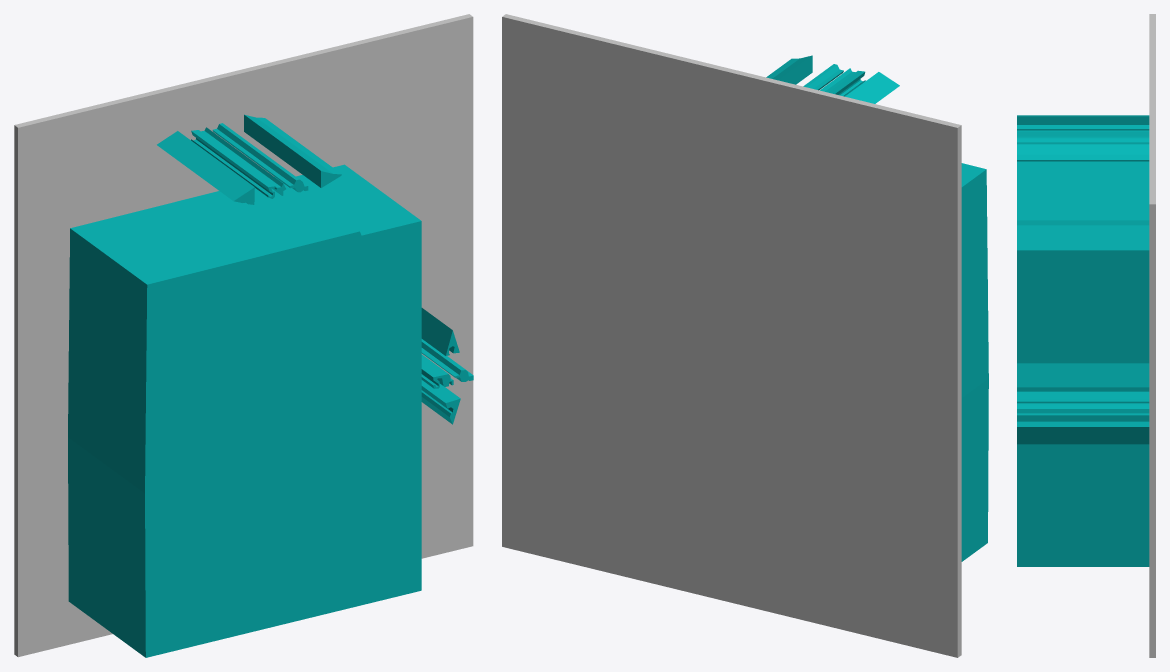
The picture shows the model from 3 angles, left to right: view 1: azimuth 30°, elevation 25°; view 2: azimuth 150°, elevation 25°; view 3: azimuth 270°, elevation 25°; orthographic projection. The views are drawn at different scales.
Parts seen in each view (by area): view 1: world; view 2: world; view 3: world.
Boxes of the visible parts, left/top/right/bottom form: world: left=14, top=14, right=473, bottom=657; world: left=502, top=14, right=988, bottom=657; world: left=1017, top=14, right=1155, bottom=657.
Bounding box in the file's own units: 10.23 × 11.37 × 3.15.
